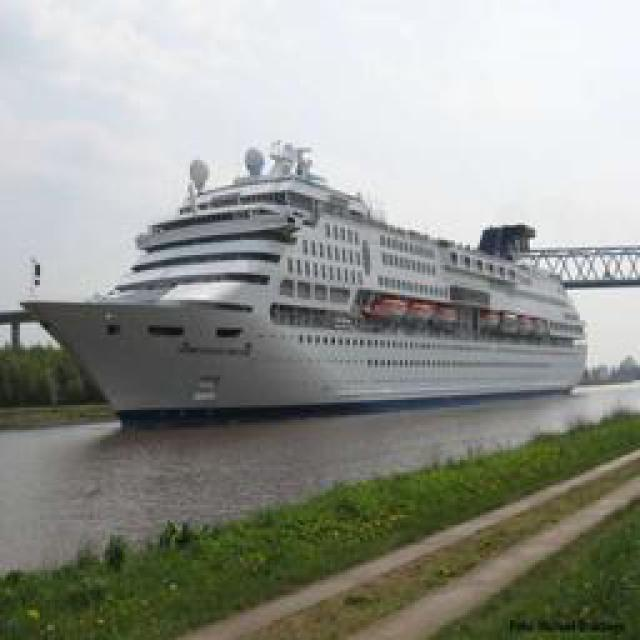Ship: (37, 134, 587, 417)
